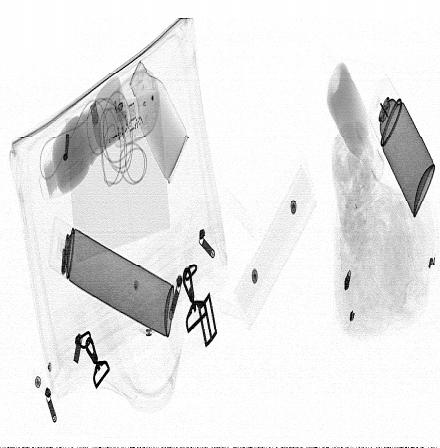Sprayer: (49, 216, 174, 337), (369, 73, 435, 216)
